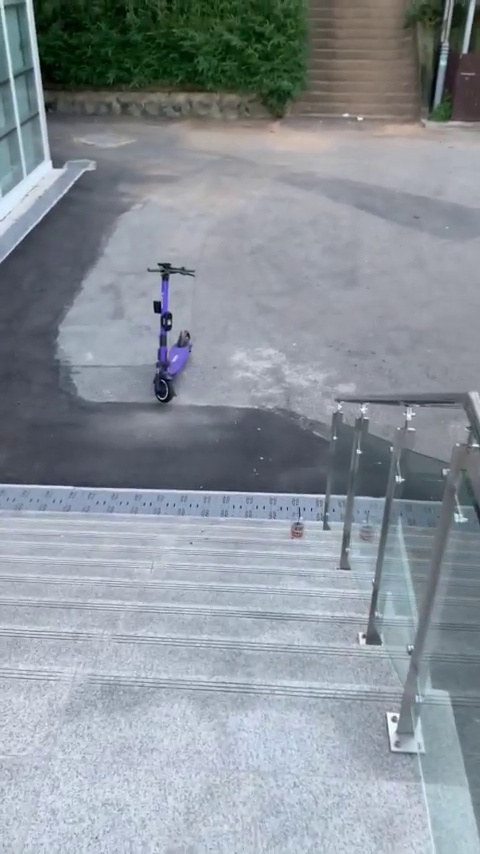beam: (120, 256, 205, 407)
